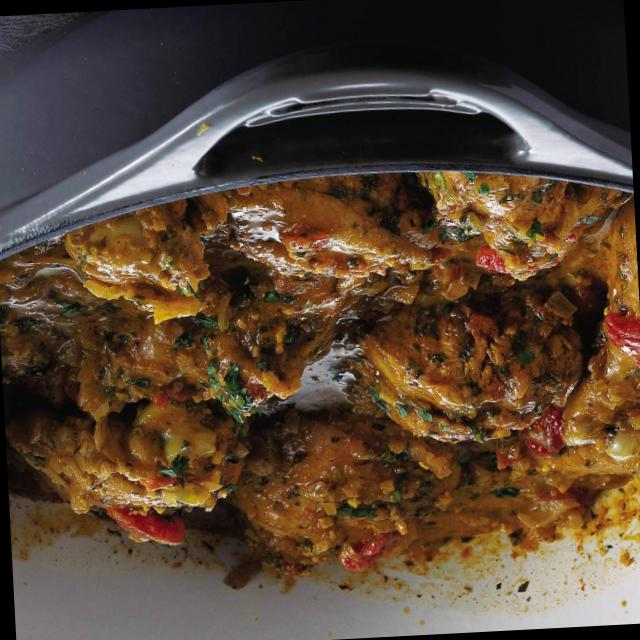chicken: (10, 185, 640, 619)
